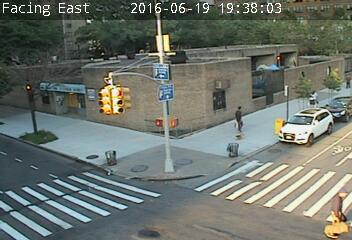neg: (233, 178, 262, 217), (186, 146, 212, 180), (275, 117, 300, 150), (194, 73, 219, 106), (149, 61, 173, 93), (37, 120, 61, 152), (36, 186, 59, 217), (65, 37, 87, 67), (158, 150, 180, 179), (132, 206, 151, 232), (249, 43, 268, 68), (105, 88, 124, 112), (187, 26, 205, 51), (107, 148, 125, 172), (60, 78, 78, 102), (309, 70, 327, 93), (298, 21, 316, 44), (226, 137, 240, 157)
pos: (312, 183, 348, 231), (225, 98, 253, 136)
